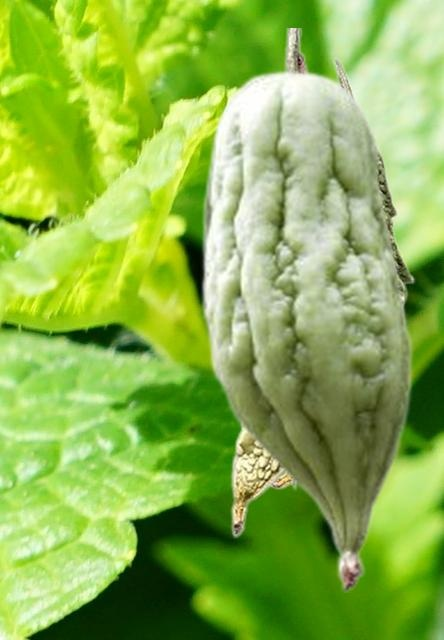ampalaya: (200, 69, 413, 591), (271, 55, 414, 488), (230, 28, 312, 538)
